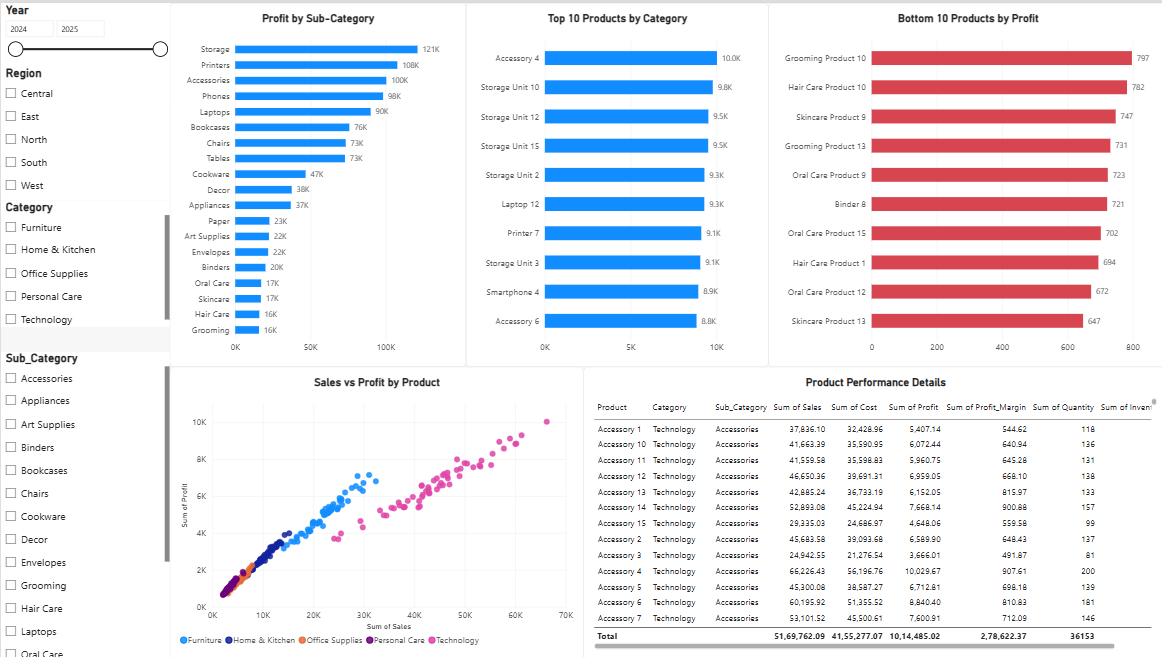

This screenshot's page, from the dashboard's own definition file:
{"tool":"powerbi","page":{"name":"Product Profitability","canvas":[1920,1080],"ordinal":1},"visuals":[{"type":"barChart","title":"Profit by Sub-Category","fields":{"Category":["Table1.Sub_Category"],"Y":["Sum(Table1.Profit)"]},"box":[277.9,0,487.8,599],"z":0},{"type":"barChart","title":"Top 10 Products by Category","fields":{"Category":["Table1.Product"],"Y":["Sum(Table1.Profit)"]},"box":[765.7,0,498.1,599],"z":1000},{"type":"barChart","title":"Bottom 10 Products by Profit","fields":{"Category":["Table1.Product"],"Y":["Sum(Table1.Profit)"]},"box":[1263.8,0,656.6,599],"z":2000},{"type":"scatterChart","title":"Sales vs Profit by Product","fields":{"Category":["Table1.Product"],"Series":["Table1.Category"],"X":["Sum(Table1.Sales)"],"Y":["Sum(Table1.Profit)"]},"box":[277.9,599,681.3,481.6],"z":3000},{"type":"tableEx","title":"Product Performance Details","fields":{"Values":["Table1.Product","Table1.Category","Table1.Sub_Category","Sum(Table1.Sales)","Sum(Table1.Cost)","Sum(Table1.Profit)","Sum(Table1.Profit_Margin)","Sum(Table1.Quantity)","Sum(Table1.Inventory_Days)"]},"box":[959.2,599,961.2,481.6],"z":4000},{"type":"slicer","fields":{"Values":["Table1.Year"]},"box":[0,0,277.9,168.8],"z":5000},{"type":"slicer","fields":{"Values":["Table1.Region"]},"box":[0,105,277.9,220.2],"z":6000},{"type":"slicer","fields":{"Values":["Table1.Category"]},"box":[0,325.2,277.9,207.9],"z":7000},{"type":"slicer","fields":{"Values":["Table1.Sub_Category"]},"box":[0,574.3,277.9,506.3],"z":8000}]}

Visuals, with their boxes in screenshot pixels (x1, y1, x2, y2), scaled from the page's 1920x1080 canvas onto the 1162x657 screenshot:
"Profit by Sub-Category" barChart: 168, 0, 463, 364
"Top 10 Products by Category" barChart: 463, 0, 765, 364
"Bottom 10 Products by Profit" barChart: 765, 0, 1161, 364
"Sales vs Profit by Product" scatterChart: 168, 364, 581, 656
"Product Performance Details" tableEx: 581, 364, 1161, 656
slicer - Table1.Year: 0, 0, 168, 103
slicer - Table1.Region: 0, 64, 168, 198
slicer - Table1.Category: 0, 198, 168, 324
slicer - Table1.Sub_Category: 0, 349, 168, 656
